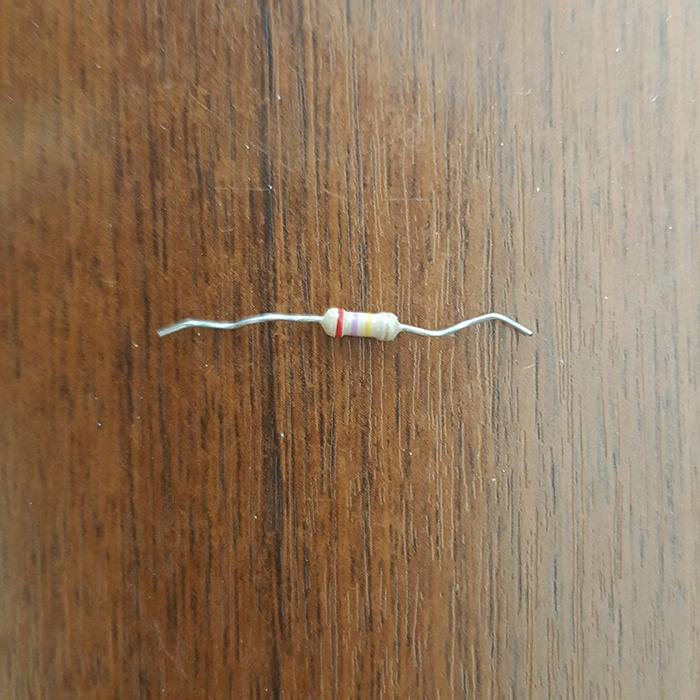resistor: (321, 307, 400, 341)
